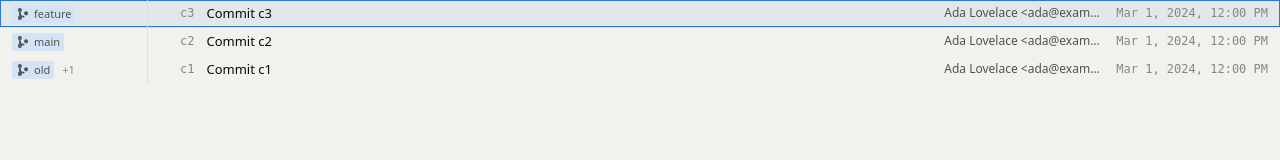
CommitGraph ref-chip drag-to-merge › shows Merge disabled with 'Already up to date' when the pair is already merged
Press the mouse on the picture "feature": (44, 14) [12, 4, 76, 22]
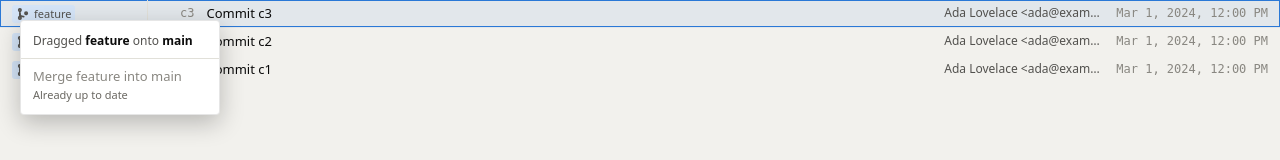
Expected: the menu item "Merge feature into main" is disabled, [21, 59, 219, 110]
